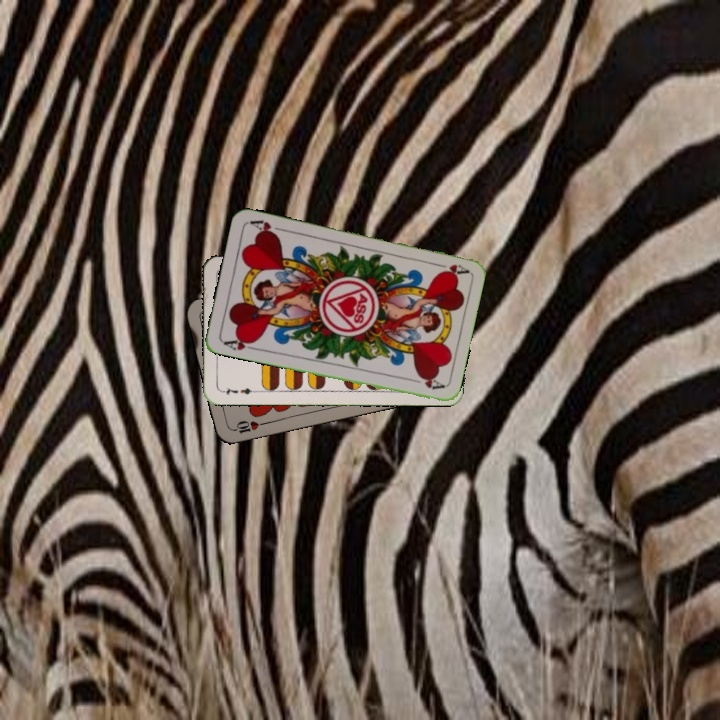E7: (218, 384, 258, 398)
H10: (227, 416, 267, 436)
HA: (220, 333, 260, 353), (430, 259, 470, 278)
